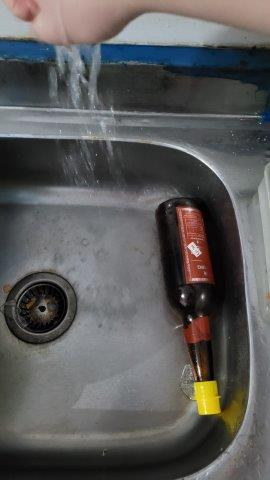botolkaca: (155, 197, 229, 418)
